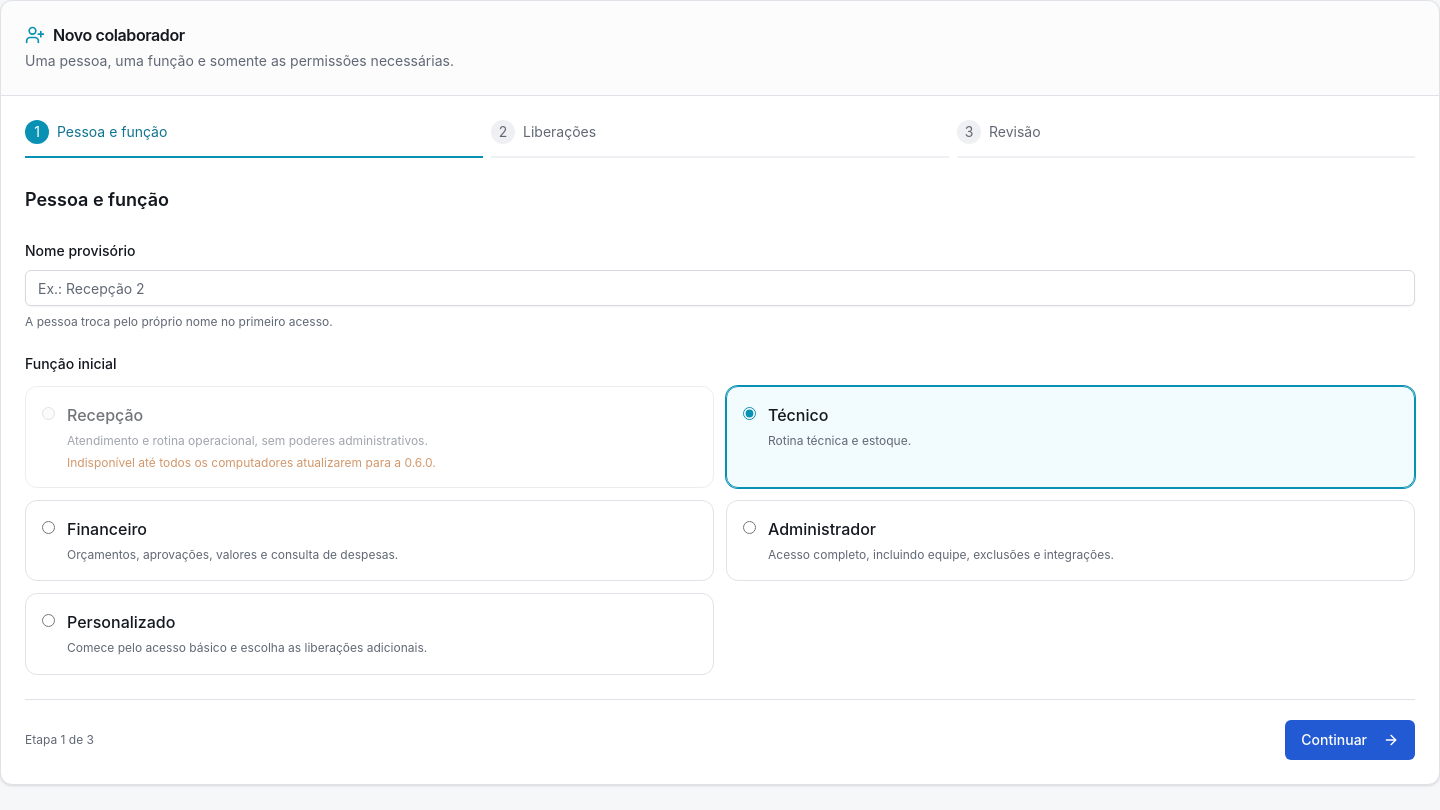
cadastro guiado de colaboradores › preenche financeiro e converte em personalizado ao ajustar permissões
The image size is (1440, 810).
Type "Paula" into the field labelled "Nome provisório" at point(720, 288), box [25,270,1415,306]
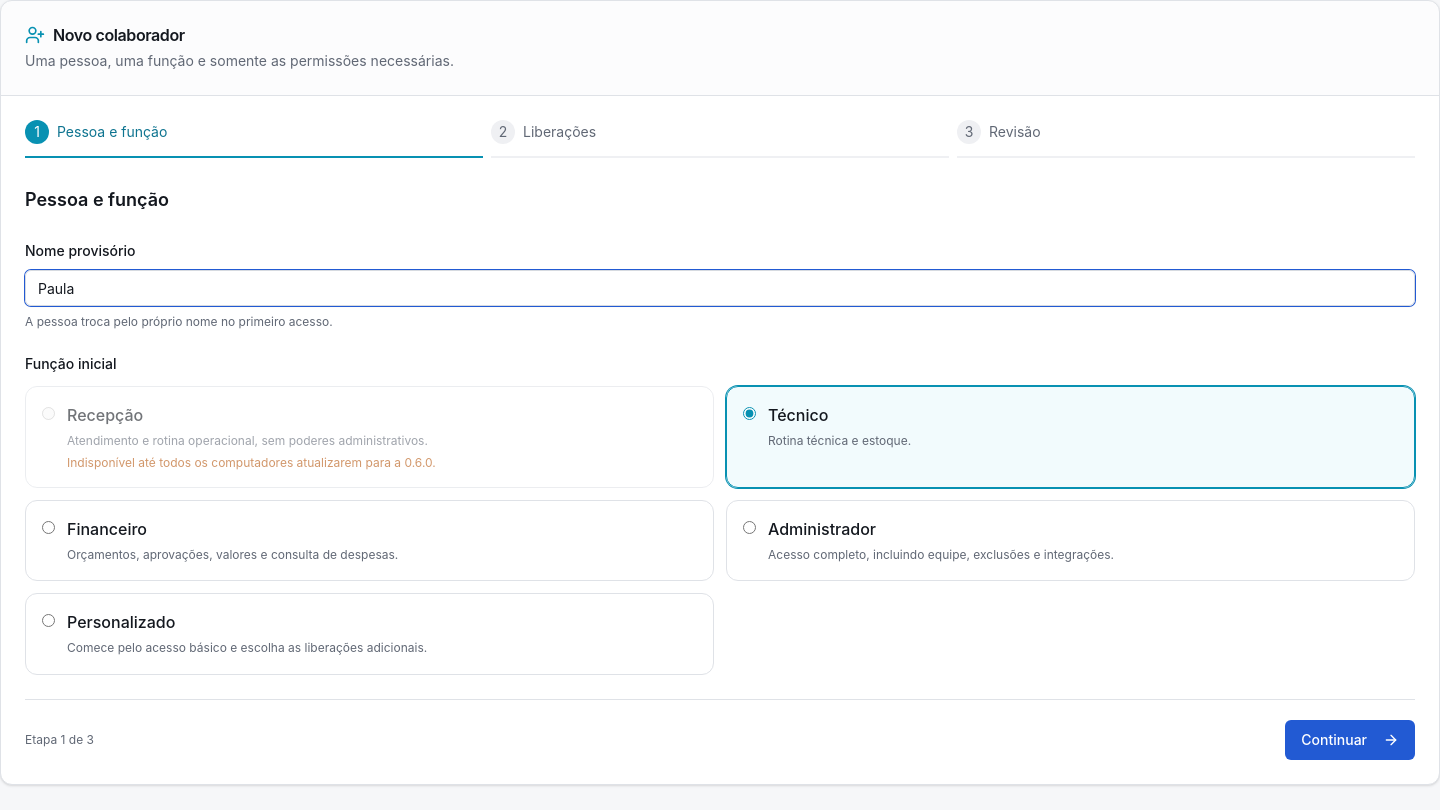
Click the radio button labelled "Financeiro" at point(48, 527), box [42,520,55,534]
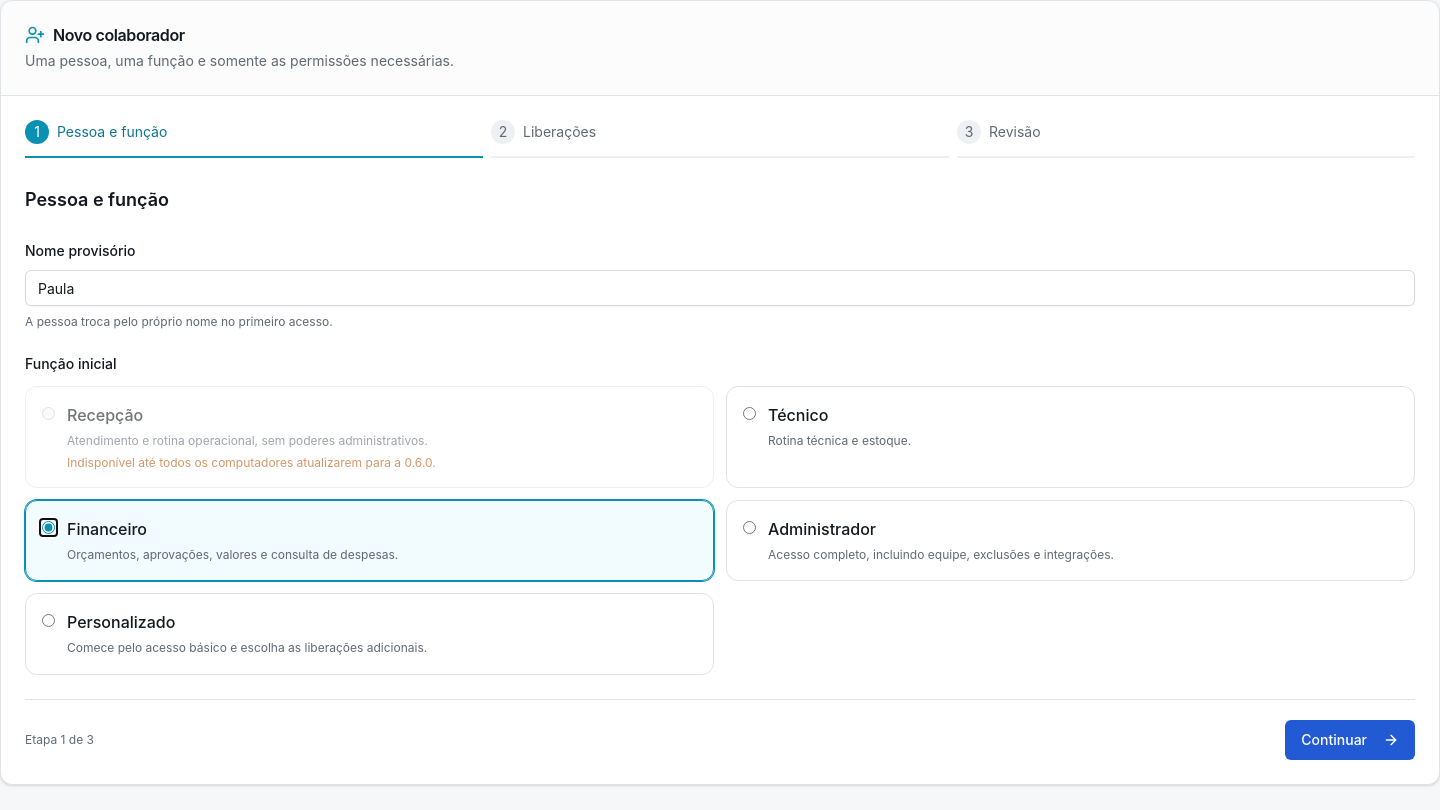
Click the button "Continuar" at point(1350, 740), box [1285,720,1415,760]
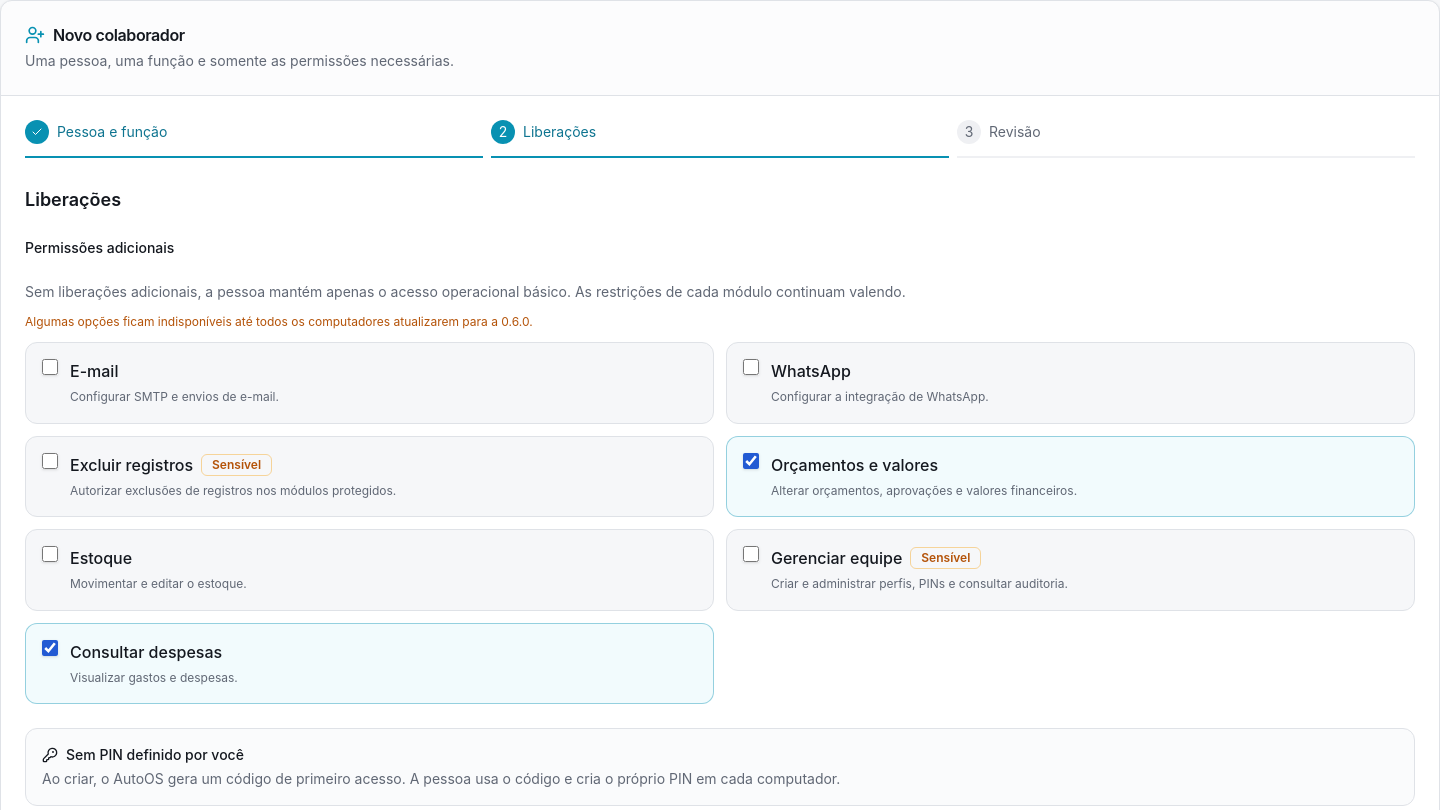
Expected: the checkbox labelled "Orçamentos e valores" is checked, [743,452,759,468]
Expected: the checkbox labelled "Consultar despesas" is checked
Expected: the checkbox labelled "Gerenciar equipe" is not checked, [743,546,759,562]
Click the checkbox labelled "Consultar despesas" at point(50, 648), box [42,640,58,656]
(page scrolled)
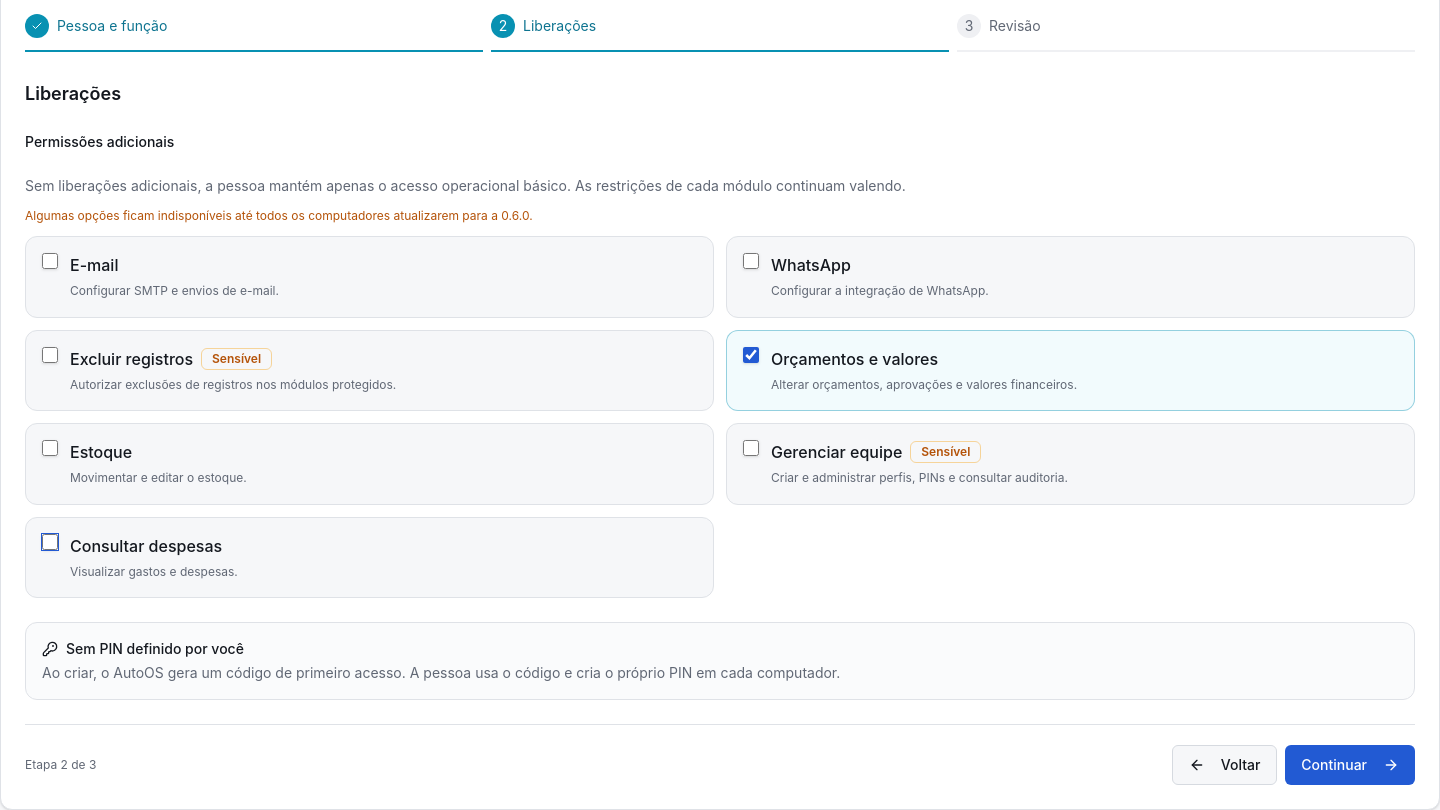
Click the button "Voltar" at point(1225, 765), box [1172,745,1277,785]
(page scrolled)
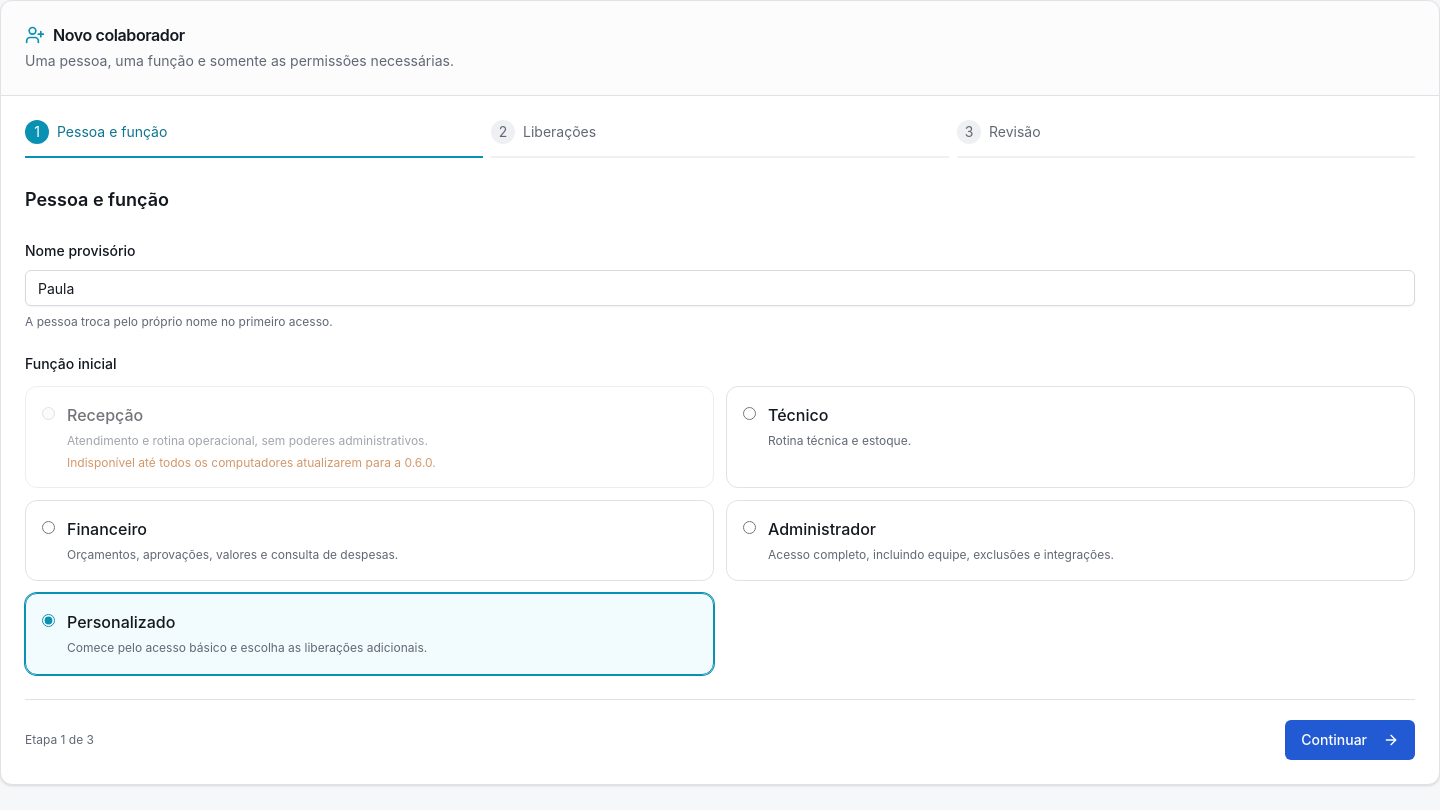
Expected: the radio button labelled "Personalizado" is checked, [42,614,55,627]
